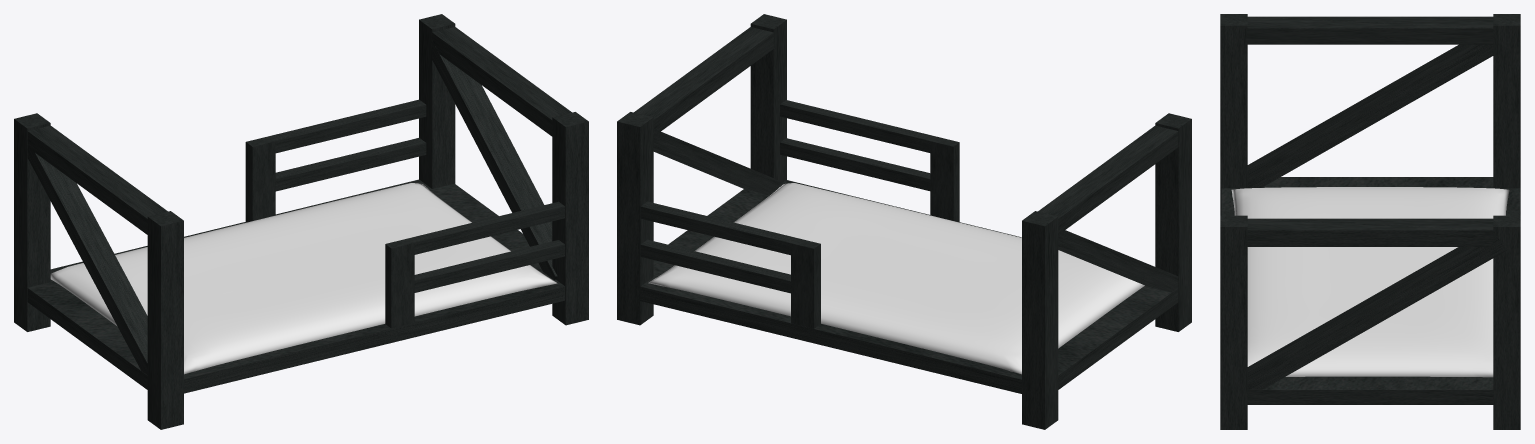
Rendered from BedSquidGamesMultipleSlots.fbx.
3 views of the same model, side by side, from view 1: azimuth 30°, elevation 25°; view 2: azimuth 150°, elevation 25°; view 3: azimuth 270°, elevation 25° (orthographic). The views are drawn at different scales.
Visible parts, largest first — view 1: Cube.015, Cube.008; view 2: Cube.015, Cube.008; view 3: Cube.015, Cube.008.
Part boxes in pixels (x1,y1,x2,y2): Cube.015: (14, 14, 588, 429); Cube.008: (50, 183, 557, 374); Cube.015: (617, 14, 1191, 429); Cube.008: (648, 183, 1144, 374); Cube.015: (1220, 14, 1520, 429); Cube.008: (1231, 187, 1509, 377).
Bounding box in the file's own units: 740 × 337 × 440.
